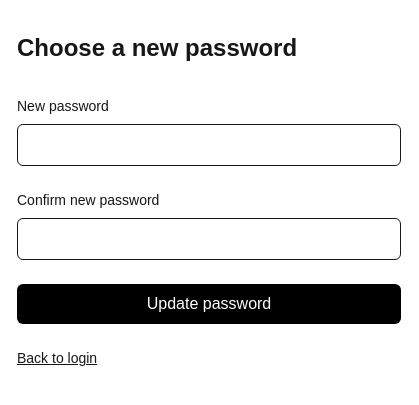
Test: Reset password page › rejects mismatched passwords without updating the user
Expected: the heading "Choose a new password" is shown, [17,34,297,61]
In the password field labelled "New password": (209,145) [17,124,401,166], type "new-secret-password"
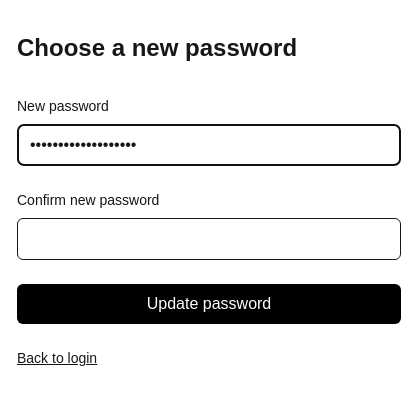
In the password field labelled "Confirm new password": (209,239) [17,218,401,260], type "different-password"
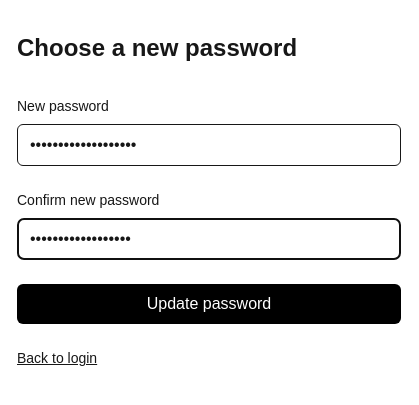
Click the button "Update password": (209,304) [17,284,401,324]
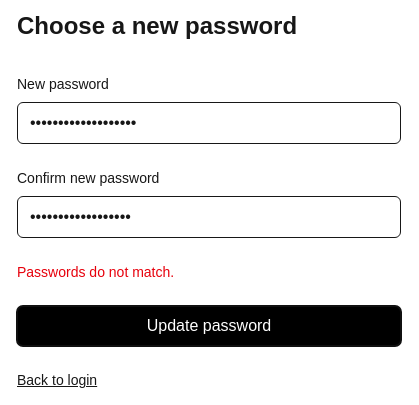
Now the message reads "Passwords do not match.", box [17,264,174,280]
